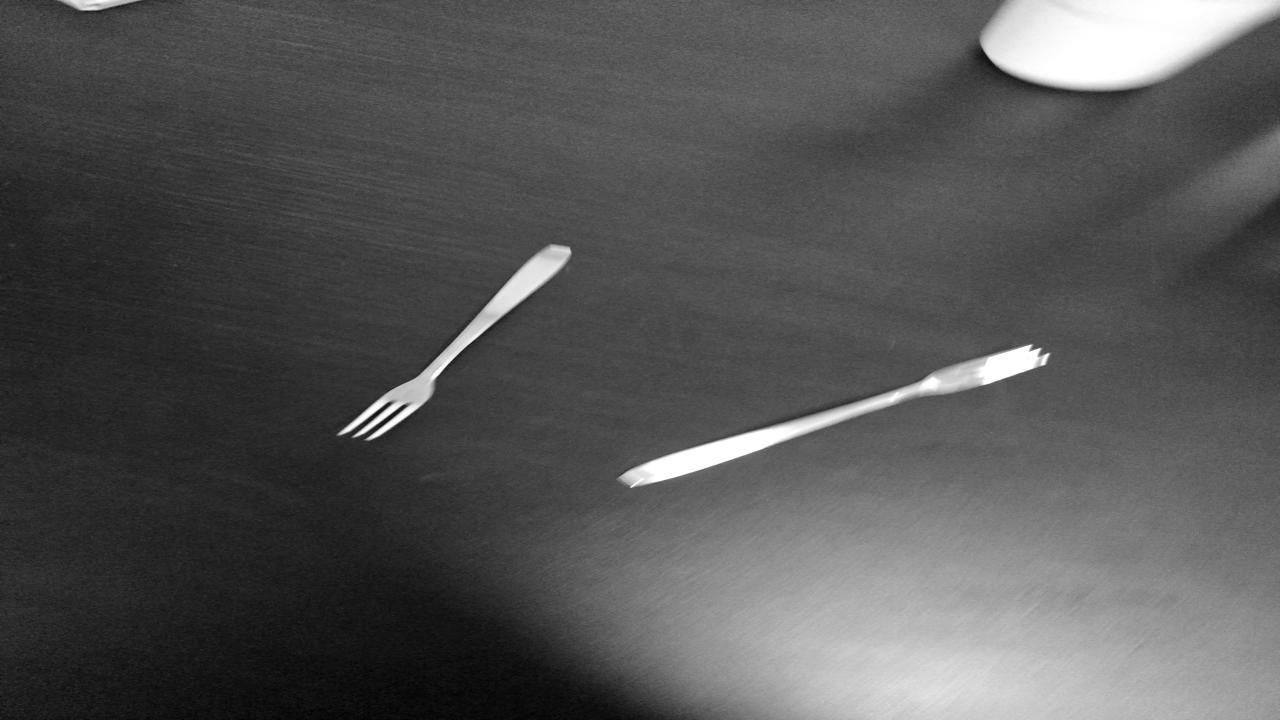fork: (606, 344, 1048, 493), (330, 242, 576, 440)
